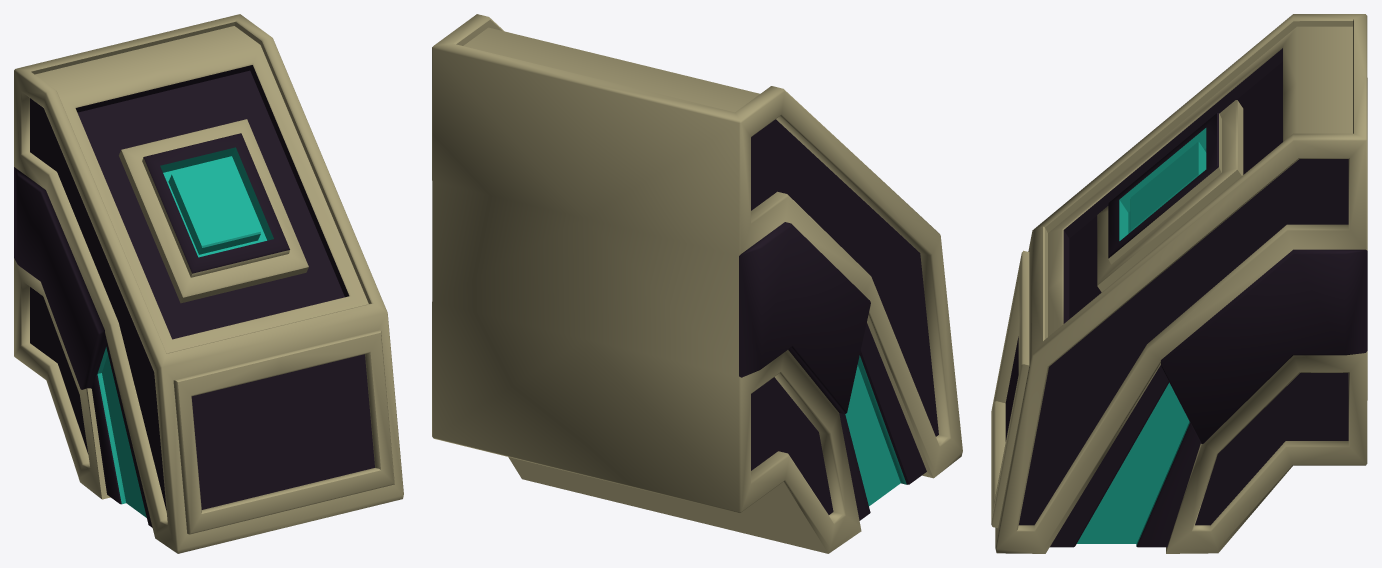
The model's file is OBJ_Arc_triomphe4.fbx.
The picture shows the model from 3 angles, left to right: view 1: azimuth 30°, elevation 25°; view 2: azimuth 150°, elevation 25°; view 3: azimuth 270°, elevation 25°; orthographic projection. The views are drawn at different scales.
Parts seen in each view (by area): view 1: Top_arche2; view 2: Top_arche2; view 3: Top_arche2.
Part boxes in pixels (<box>): Top_arche2: <box>14,14,403,553</box>; Top_arche2: <box>432,14,962,553</box>; Top_arche2: <box>991,14,1367,553</box>.
Size of the model in its own units: 2098 by 3075 by 2530.
